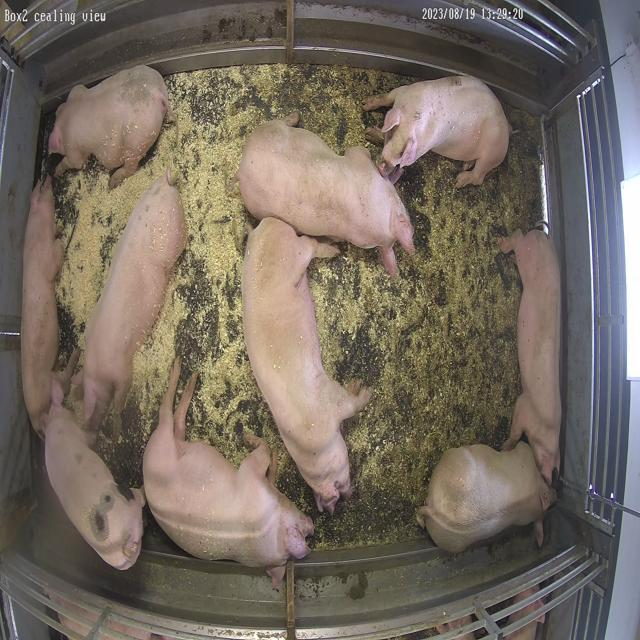Dirt: (309, 108, 544, 549), (248, 65, 410, 152)
Pig: (143, 360, 314, 590), (242, 217, 372, 512), (237, 118, 414, 274), (82, 174, 186, 432), (44, 379, 144, 570), (364, 76, 512, 188), (499, 229, 562, 484), (417, 443, 557, 554), (48, 65, 168, 188), (22, 177, 63, 434)
